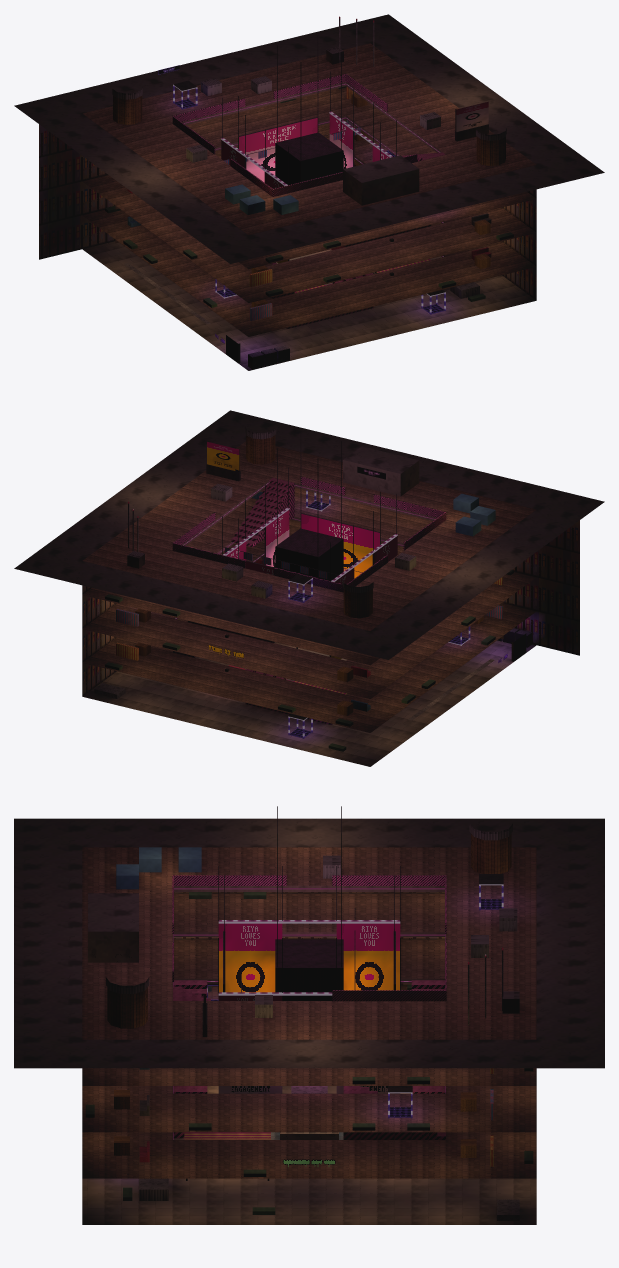
File: towers.glb
3 renders of one model, top to bottom at view 1: azimuth 30°, elevation 25°; view 2: azimuth 150°, elevation 25°; view 3: azimuth 270°, elevation 25°, orthographic. The views are drawn at different scales.
Parts seen in each view (by area): view 1: towers_tile, towers_roof, towers_terrazzo, towers_units, towers_rail, towers_banner_reach, towers_cube, towers_plate_dark, towers_concrete, towers_slab_edge, towers_water_tank, towers_plate (+10 smaller); view 2: towers_tile, towers_roof, towers_terrazzo, towers_units, towers_rail, towers_plate_dark, towers_cube, towers_banner_riya, towers_scaffold, towers_concrete, towers_water_tank, towers_slab_edge (+12 smaller); view 3: towers_tile, towers_roof, towers_terrazzo, towers_banner_riya, towers_rail, towers_cube, towers_slab_edge, towers_water_tank, towers_plate_dark, towers_sleeping_bag, towers_neon_pink, towers_metal (+10 smaller).
Boxes of the visible parts, x1=… form: towers_tile: x1=82, y1=43, x2=536, y2=336; towers_roof: x1=14, y1=14, x2=604, y2=263; towers_terrazzo: x1=82, y1=241, x2=536, y2=370; towers_units: x1=39, y1=124, x2=536, y2=300; towers_rail: x1=172, y1=74, x2=417, y2=196; towers_banner_reach: x1=239, y1=114, x2=389, y2=182; towers_cube: x1=275, y1=132, x2=343, y2=184; towers_plate_dark: x1=173, y1=35, x2=488, y2=363; towers_concrete: x1=343, y1=169, x2=419, y2=205; towers_slab_edge: x1=115, y1=82, x2=445, y2=257; towers_water_tank: x1=113, y1=95, x2=505, y2=165; towers_plate: x1=124, y1=18, x2=479, y2=369; towers_tile: x1=82, y1=441, x2=536, y2=732; towers_roof: x1=14, y1=410, x2=604, y2=659; towers_terrazzo: x1=82, y1=640, x2=536, y2=766; towers_units: x1=82, y1=520, x2=579, y2=696; towers_rail: x1=172, y1=477, x2=446, y2=592; towers_plate_dark: x1=127, y1=431, x2=526, y2=719; towers_cube: x1=275, y1=528, x2=343, y2=580; towers_banner_riya: x1=301, y1=514, x2=397, y2=659; towers_scaffold: x1=173, y1=480, x2=332, y2=724; towers_concrete: x1=343, y1=460, x2=419, y2=496; towers_water_tank: x1=246, y1=435, x2=372, y2=618; towers_slab_edge: x1=173, y1=480, x2=503, y2=639; towers_tile: x1=82, y1=847, x2=536, y2=1178; towers_roof: x1=14, y1=818, x2=604, y2=1068; towers_terrazzo: x1=82, y1=1086, x2=536, y2=1224; towers_banner_riya: x1=218, y1=923, x2=400, y2=992; towers_rail: x1=172, y1=875, x2=446, y2=1001; towers_cube: x1=275, y1=939, x2=343, y2=1000; towers_slab_edge: x1=173, y1=885, x2=445, y2=983; towers_water_tank: x1=107, y1=833, x2=511, y2=1028; towers_plate_dark: x1=186, y1=806, x2=519, y2=1180; towers_sleeping_bag: x1=85, y1=892, x2=533, y2=1214; towers_neon_pink: x1=173, y1=888, x2=445, y2=1139; towers_metal: x1=106, y1=823, x2=519, y2=1200.
Size of what is drawn, in the model's own units: 52 by 30 by 52.
Materials: 57 (57 with a texture image).
